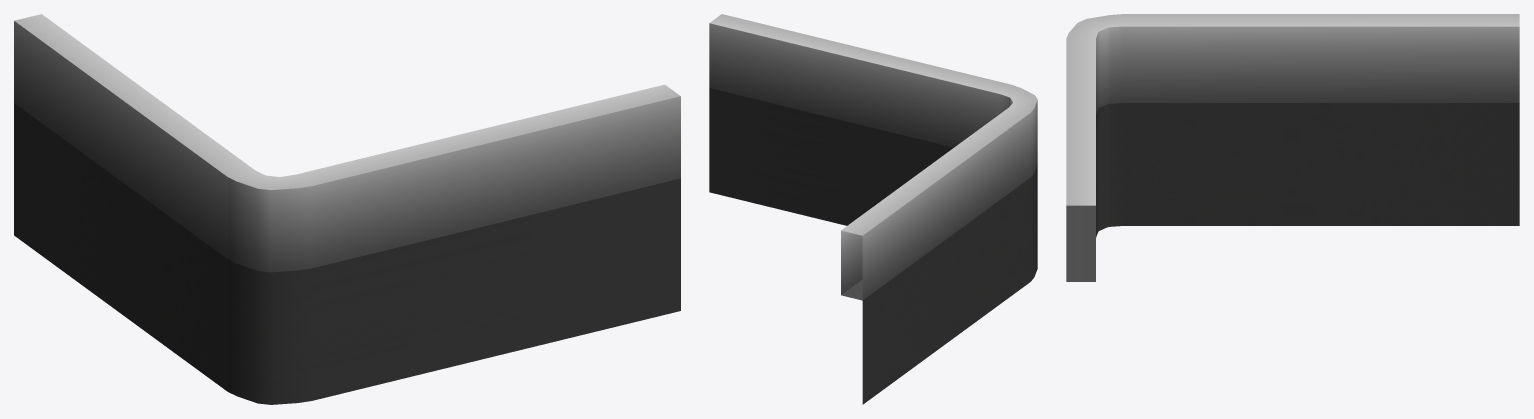
3 renders of one model, left to right at view 1: azimuth 30°, elevation 25°; view 2: azimuth 150°, elevation 25°; view 3: azimuth 270°, elevation 25°, orthographic. The views are drawn at different scales.
Visible parts, largest first — view 1: Plane, PieceType5; view 2: PieceType5, Plane; view 3: Plane, PieceType5.
Boxes of the visible parts, <box> form: Plane: <box>14,103,680,404</box>; PieceType5: <box>14,14,680,272</box>; PieceType5: <box>709,14,1037,300</box>; Plane: <box>709,88,1037,404</box>; Plane: <box>1096,103,1519,237</box>; PieceType5: <box>1066,14,1519,281</box>.
Size of the model in its own units: 107 by 51.97 by 107.
